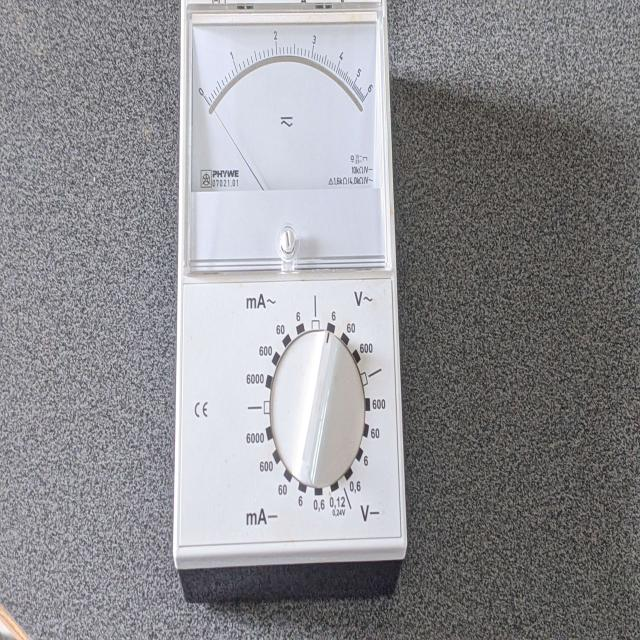Analog Multimeter: (168, 4, 416, 592)
